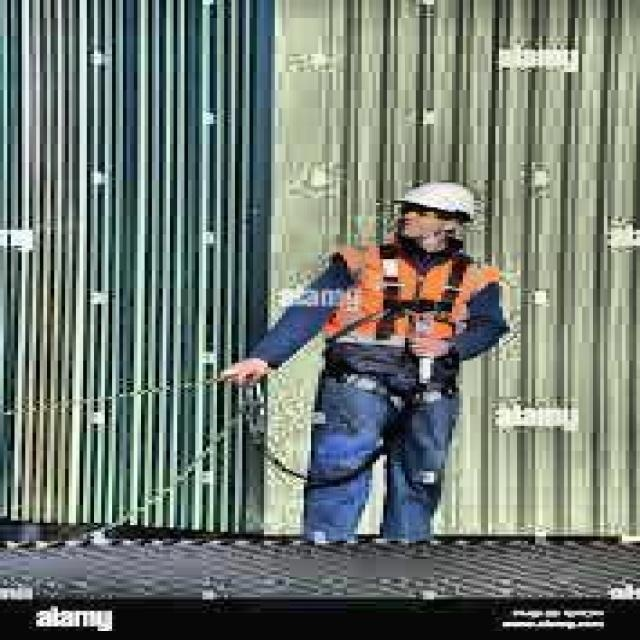Arnes_seguridad: (354, 239, 482, 330)
